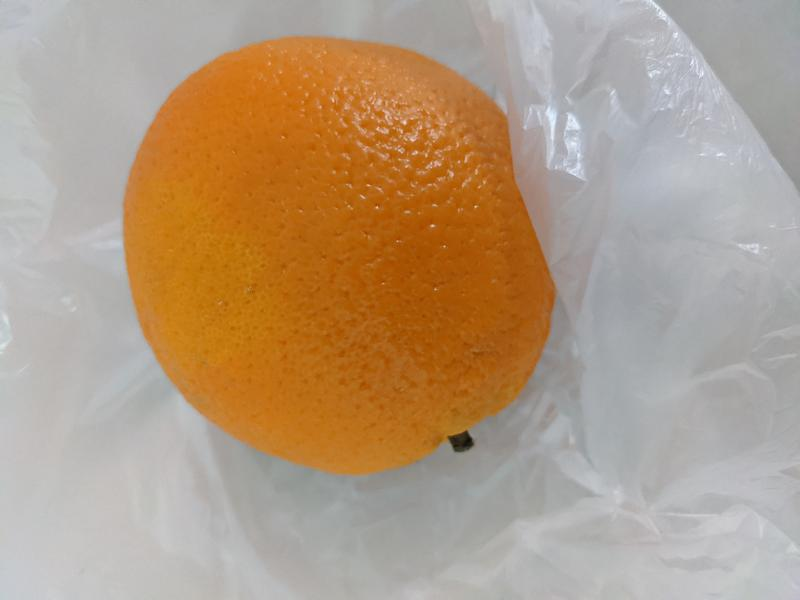orange: (122, 36, 557, 475)
